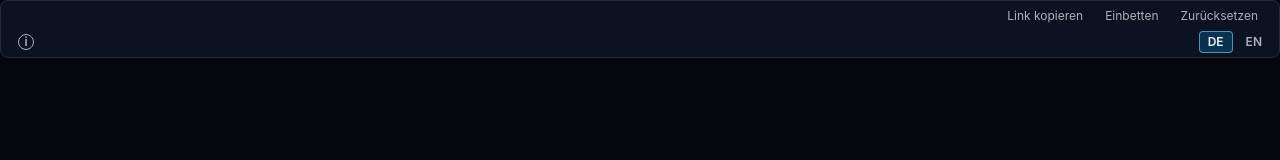
Test: Kopfzeile: Link kopieren und Zurücksetzen › fällt ohne Zwischenablage auf die Adresszeile zurück
The width and height of the screenshot is (1280, 160).
Click the button "Link kopieren". click: click(1045, 16)
box: [998,5,1092,27]
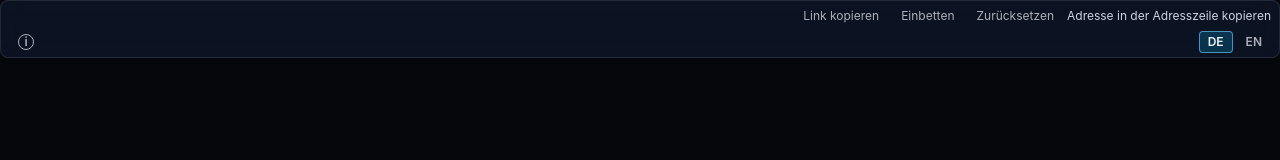
Now the message reads "Adresse in der Adresszeile kopieren", box [1067,8,1271,23]
